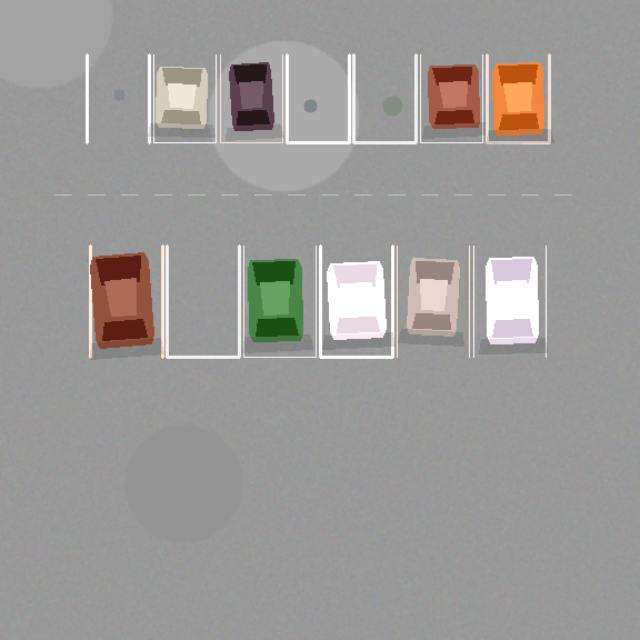space-empty: (167, 246, 239, 357), (353, 54, 416, 142), (87, 54, 149, 142), (287, 54, 349, 142)
space-occupied: (243, 246, 316, 357), (473, 246, 546, 357), (90, 246, 162, 357), (320, 246, 392, 357), (397, 246, 469, 357), (153, 54, 216, 142), (220, 54, 282, 142), (420, 54, 482, 142), (487, 54, 549, 142)
